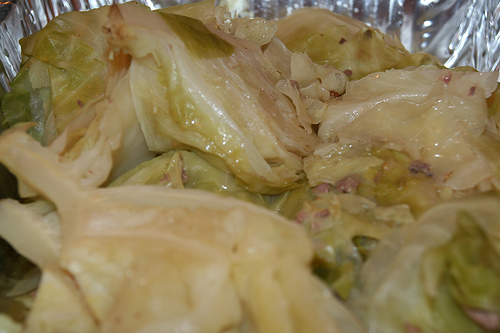cabbage: (0, 2, 499, 332)
